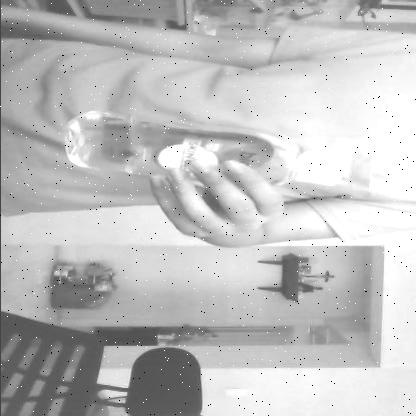Plastic Bottle: (58, 111, 355, 188)
